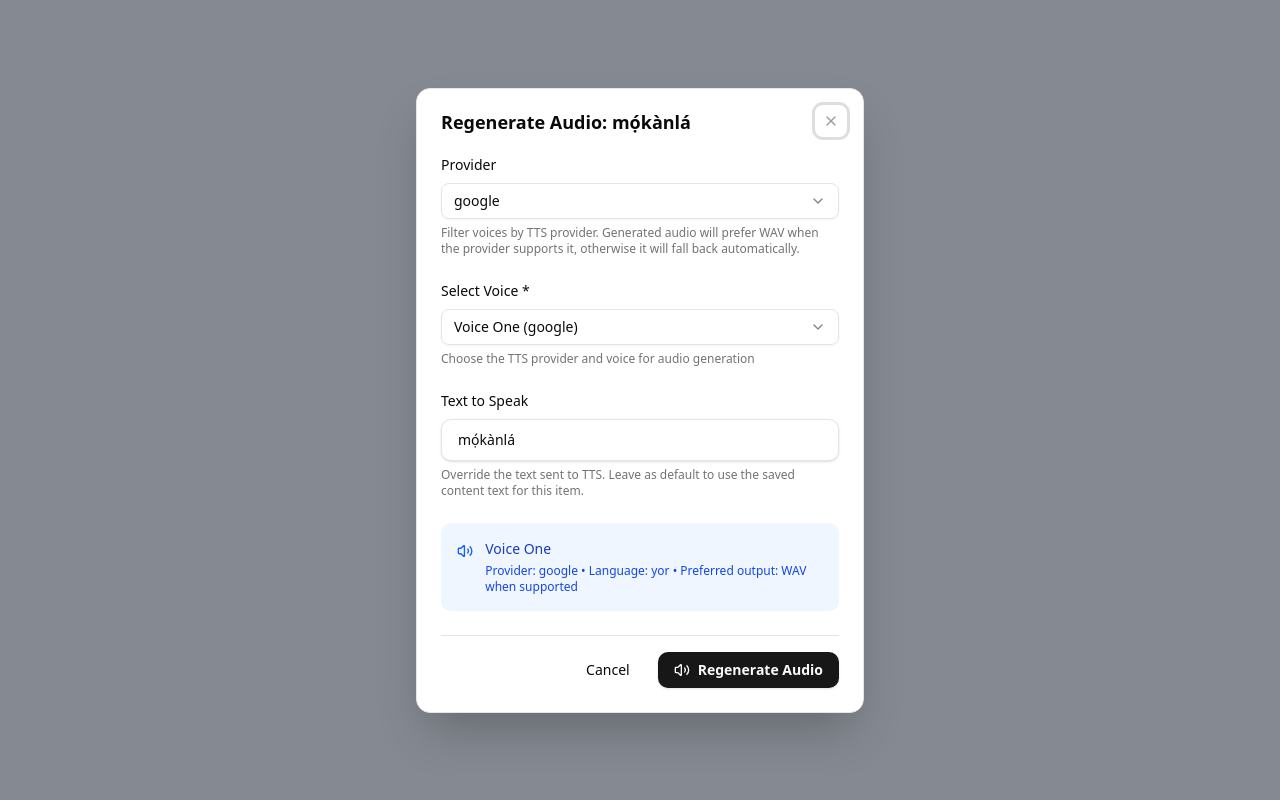
Test: RegenerateAudioModal preview step › renders a placeholder for Current (live) when there was no existing audio
The image size is (1280, 800).
Expected: the text "Voice One (google)" is shown, [454,316,578,336]
Click the button "Regenerate Audio" at (748,670), box [658,652,839,688]
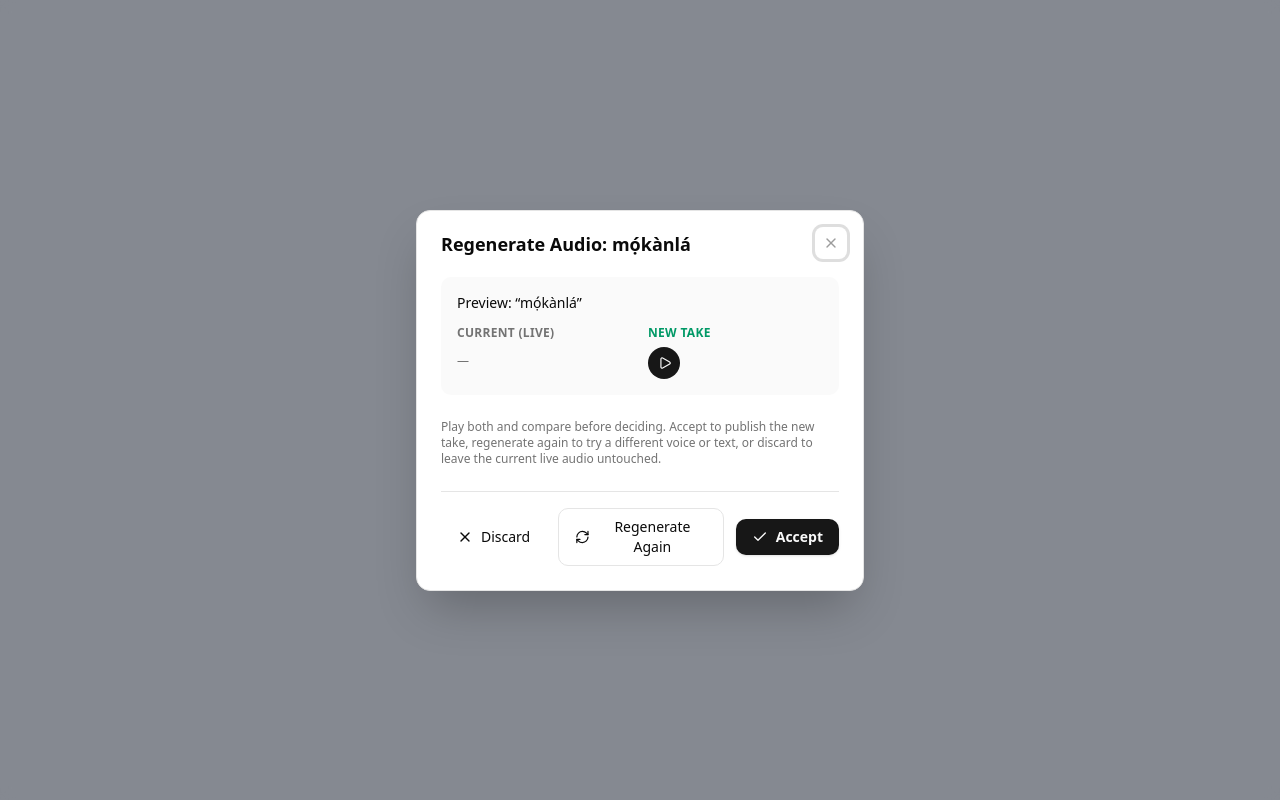
Expected: the text "Current (live)" is shown, [457,324,554,340]
